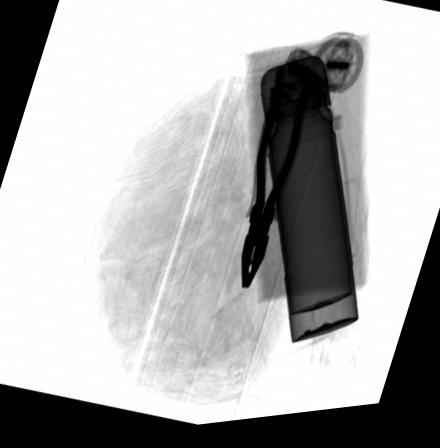Pliers: (240, 71, 311, 295)
